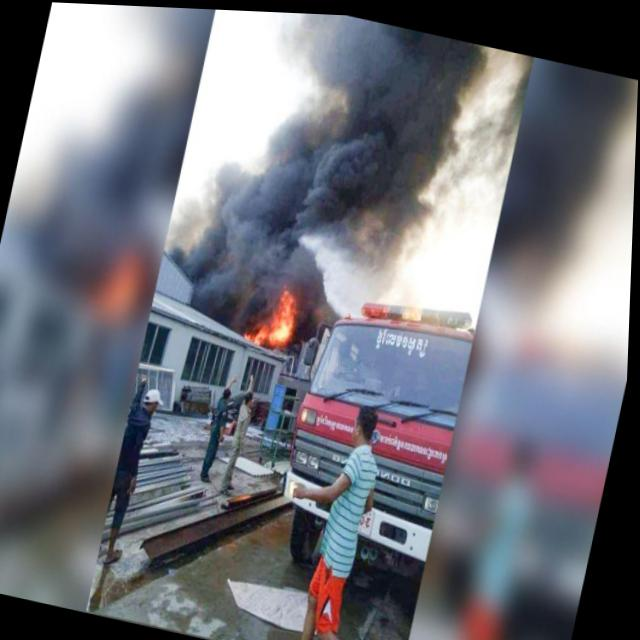fire: (240, 273, 309, 358)
